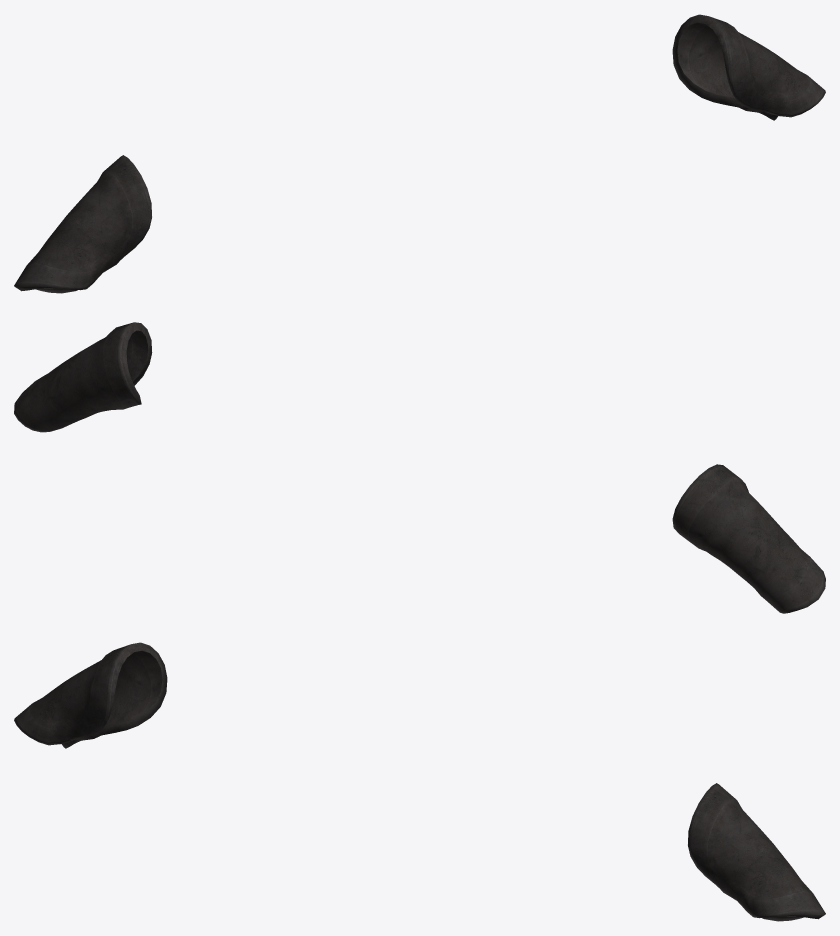
Rendered from legolas gloves.fbx.
3 views of the same model, one above another, from view 1: azimuth 30°, elevation 25°; view 2: azimuth 150°, elevation 25°; view 3: azimuth 330°, elevation 25° (orthographic).
Visible parts, largest first — view 1: legolas gloves; view 2: legolas gloves; view 3: legolas gloves.
Boxes of the visible parts, x1,y1,x2,y2 form: legolas gloves: (14, 14, 825, 293); legolas gloves: (14, 322, 825, 613); legolas gloves: (14, 642, 825, 921).
Bounding box in the file's own units: 1.44 × 0.1309 × 0.2062.
Materials: 1 (1 with a texture image).
